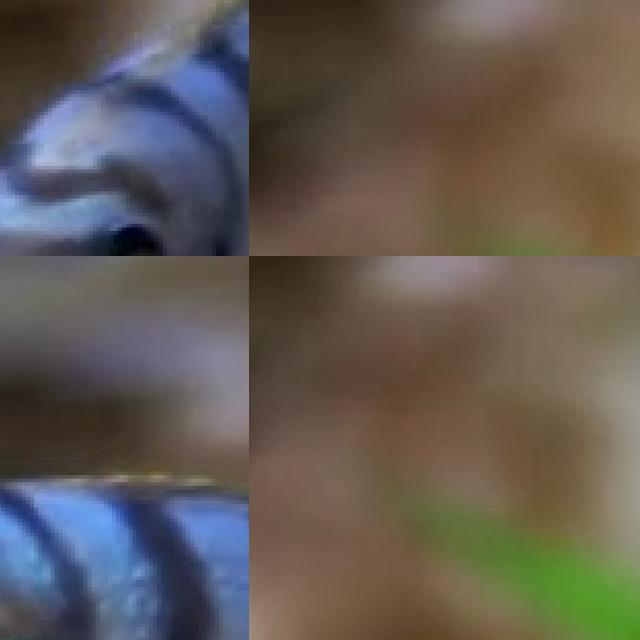fish: (0, 0, 249, 256), (0, 460, 249, 640)
